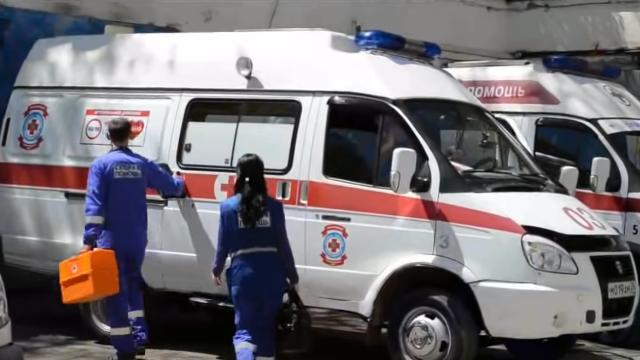ambulance: (0, 26, 638, 360), (440, 55, 640, 260)
